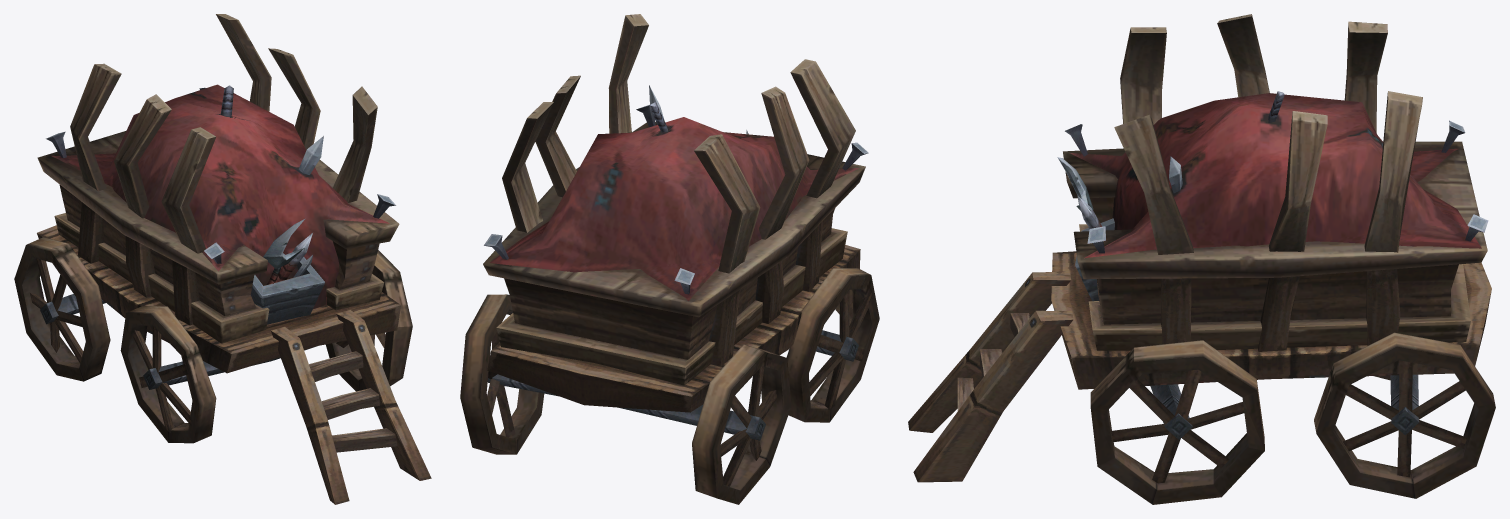
Rendered from building_caravan02.fbx.
3 views of the same model, side by side, from view 1: azimuth 30°, elevation 25°; view 2: azimuth 150°, elevation 25°; view 3: azimuth 270°, elevation 25° (orthographic). The views are drawn at different scales.
Parts seen in each view (by area): view 1: building_caravan02-0; view 2: building_caravan02-0; view 3: building_caravan02-0.
Part boxes in pixels (left/top/right/bottom): building_caravan02-0: left=14, top=14, right=431, bottom=504; building_caravan02-0: left=460, top=14, right=879, bottom=504; building_caravan02-0: left=908, top=14, right=1495, bottom=504.
Bounding box in the file's own units: 3.01 × 3.67 × 5.01.
